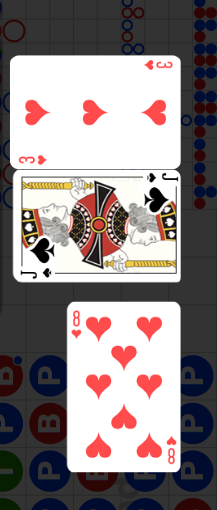3H: (142, 59, 173, 72)
8H: (164, 434, 177, 465), (70, 310, 83, 341)
JS: (132, 171, 179, 215), (12, 238, 58, 282)
